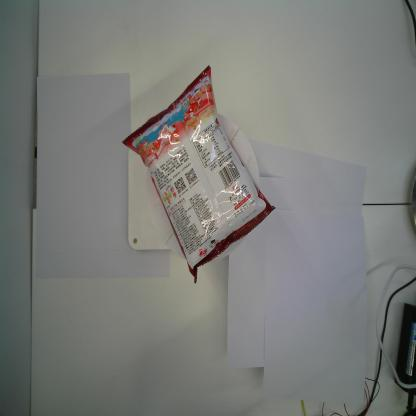Puffed Food: (122, 66, 276, 284)
